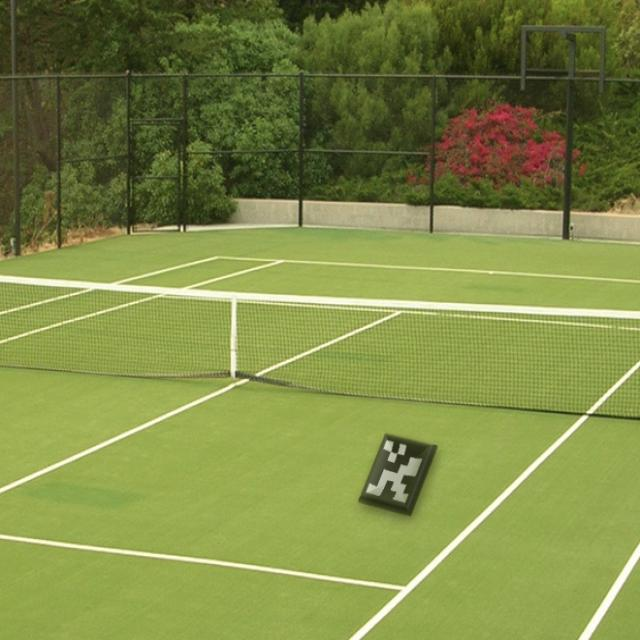marker: (355, 420, 450, 530)
